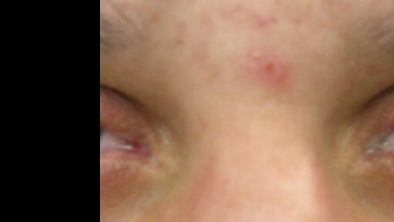SJS-TEN: (235, 0, 311, 101)
